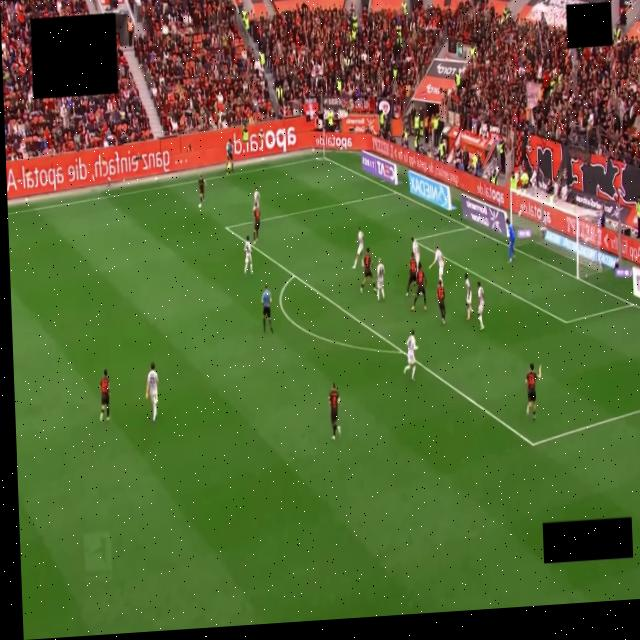player: (524, 364, 541, 420), (145, 362, 158, 422), (410, 263, 426, 311), (360, 248, 375, 293), (328, 384, 340, 440), (404, 330, 416, 380), (99, 370, 109, 421), (429, 247, 444, 279), (352, 227, 363, 269), (406, 253, 416, 296), (375, 258, 384, 302), (505, 219, 514, 262), (465, 272, 473, 320), (437, 278, 445, 323), (477, 281, 484, 330), (244, 236, 252, 274), (252, 207, 260, 244), (198, 176, 205, 208), (411, 237, 419, 264), (253, 186, 259, 207)
referee: (261, 286, 272, 333)
